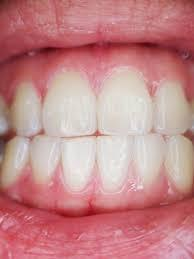cavity: (10, 72, 43, 137), (0, 135, 31, 193), (164, 136, 194, 195)
normal: (92, 60, 158, 134), (37, 64, 98, 138), (92, 133, 136, 198), (149, 73, 194, 134), (57, 133, 101, 192), (130, 130, 166, 193), (25, 131, 60, 191)
